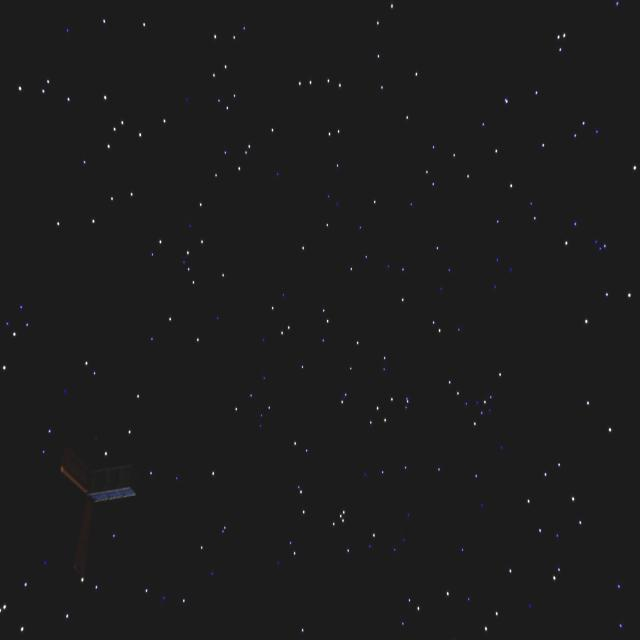medium_debris: (47, 430, 150, 582)
